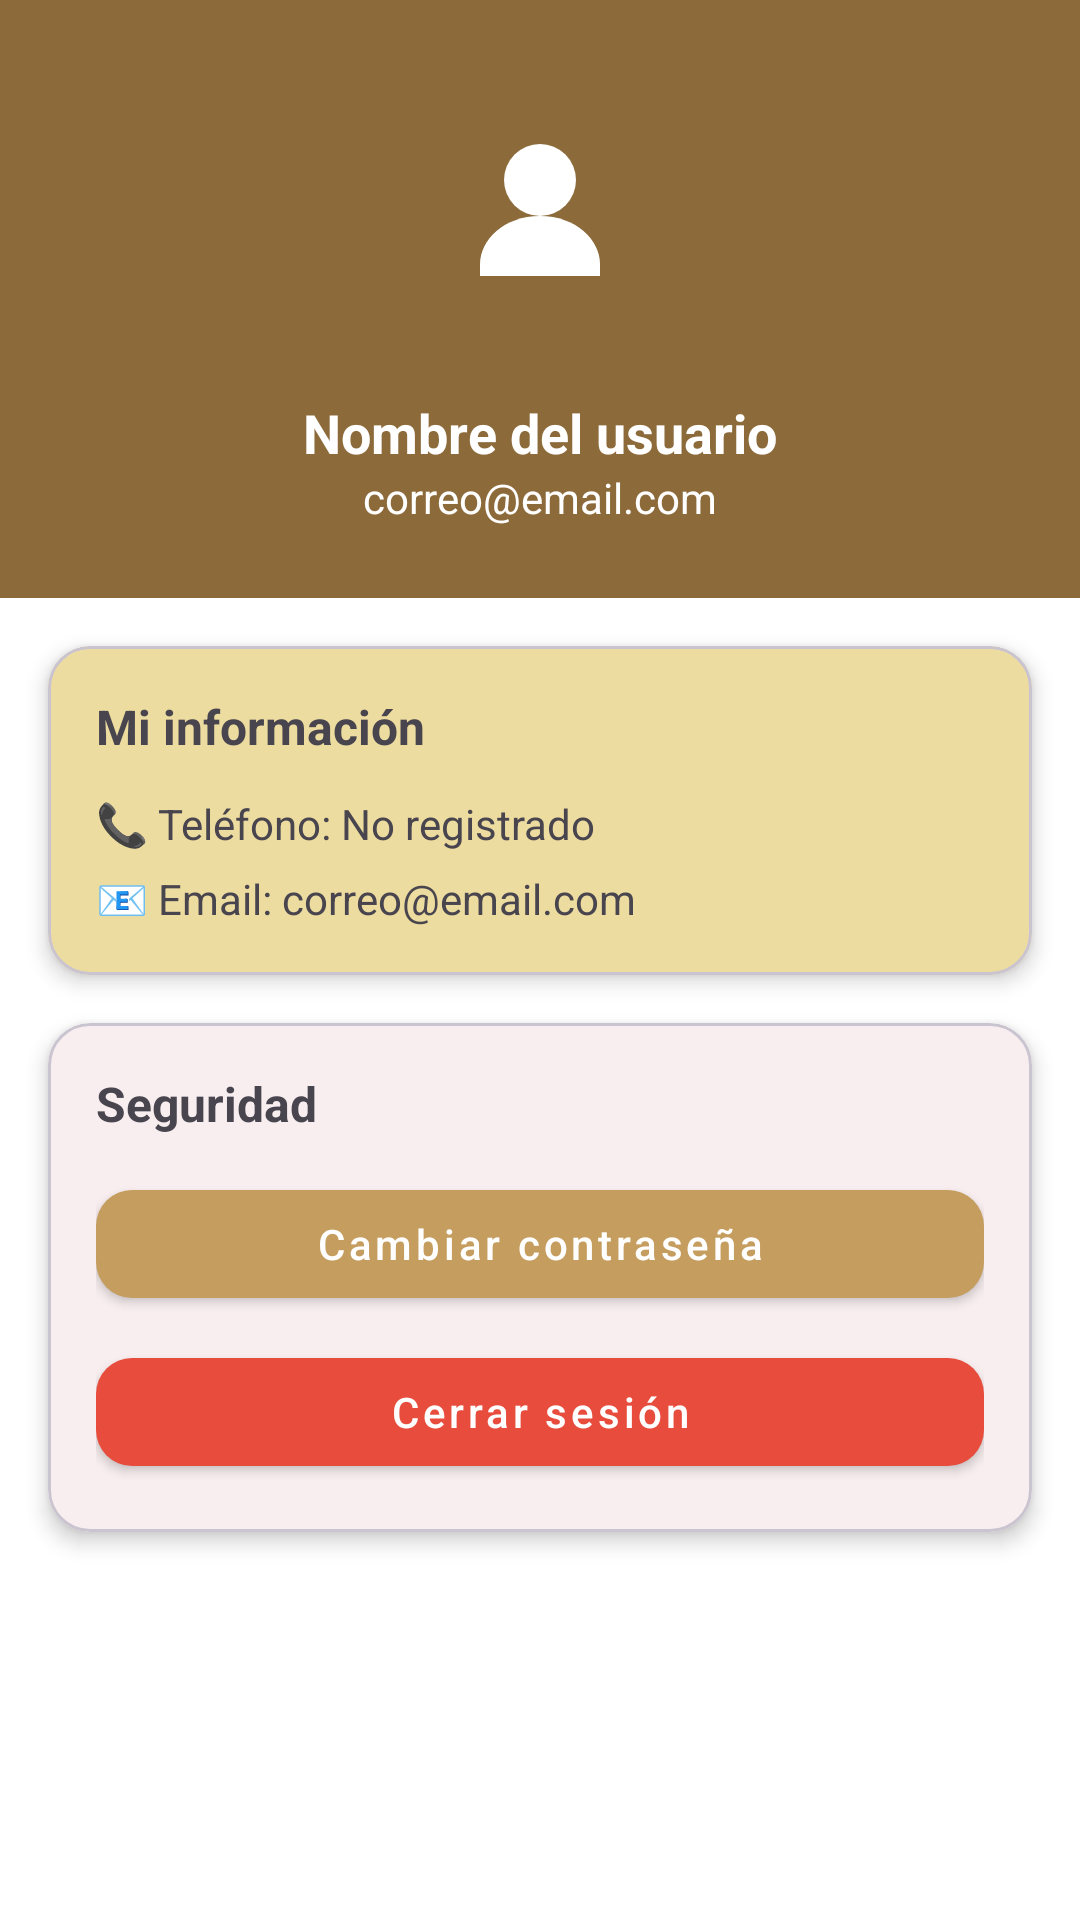

Screen size 1080px x 1920px. Icon name, then its box in pixels as (x1, y1, x2, y2):
user: (480, 144, 600, 276)
